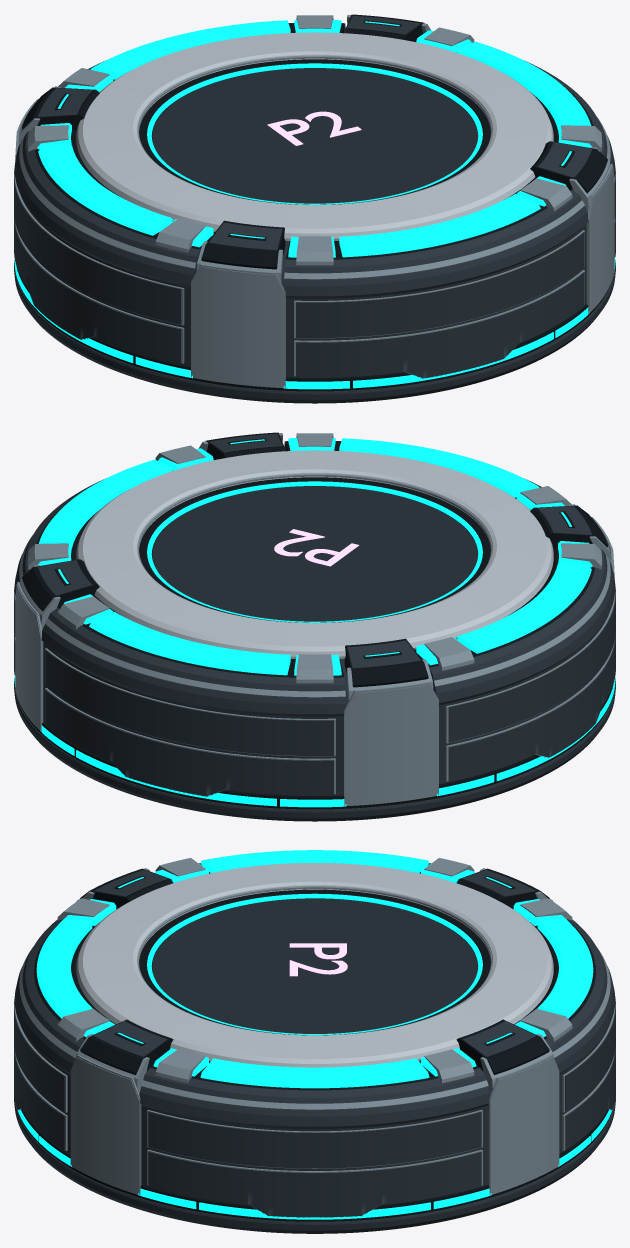
Rendered from Heavy.fbx.
The picture shows the model from 3 angles, top to bottom: view 1: azimuth 30°, elevation 25°; view 2: azimuth 150°, elevation 25°; view 3: azimuth 270°, elevation 25°; orthographic projection.
Parts seen in each view (by area): view 1: SM_Puck_Heavy_P2_HighDetail; view 2: SM_Puck_Heavy_P2_HighDetail; view 3: SM_Puck_Heavy_P2_HighDetail.
Part boxes in pixels (x1=…): SM_Puck_Heavy_P2_HighDetail: x1=14, y1=14, x2=615, y2=403; SM_Puck_Heavy_P2_HighDetail: x1=14, y1=432, x2=615, y2=821; SM_Puck_Heavy_P2_HighDetail: x1=14, y1=850, x2=615, y2=1233.
Bounding box in the file's own units: 97.5 × 97.5 × 27.3.
